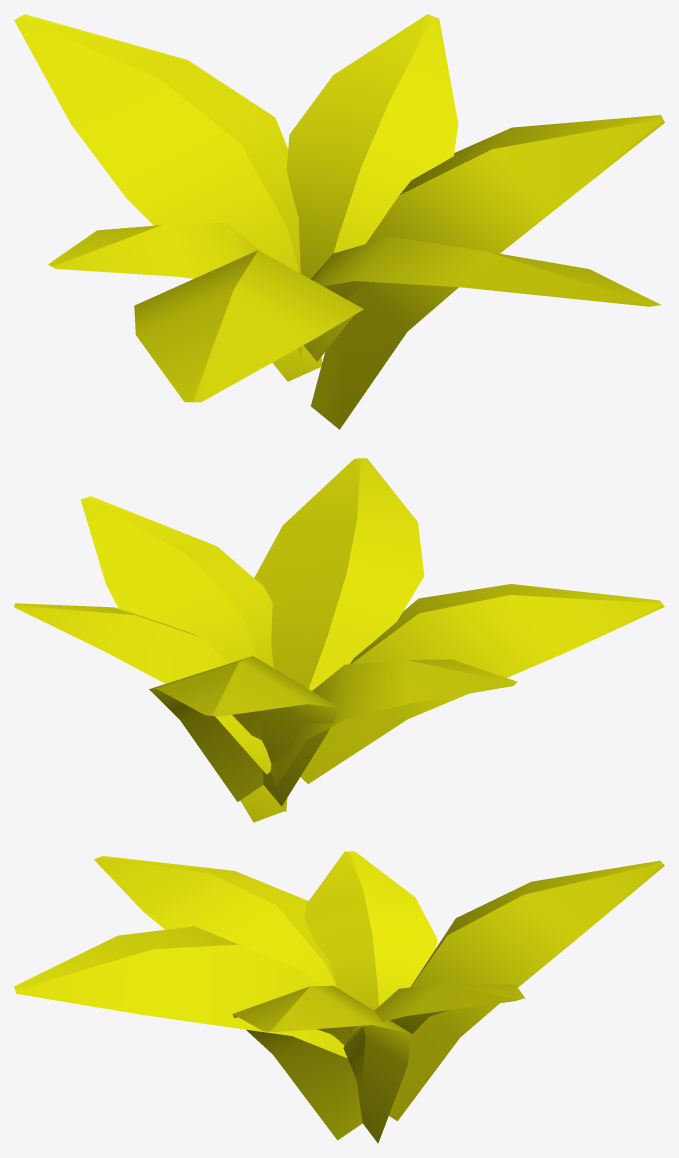
Rendered from Mini_Plants.fbx.
3 renders of one model, top to bottom at view 1: azimuth 30°, elevation 25°; view 2: azimuth 150°, elevation 25°; view 3: azimuth 270°, elevation 25°, orthographic. The views are drawn at different scales.
Parts seen in each view (by area): view 1: polySurface139; view 2: polySurface139; view 3: polySurface139.
Boxes of the visible parts, left/top/right/bottom form: polySurface139: left=14, top=14, right=664, bottom=429; polySurface139: left=14, top=458, right=664, bottom=822; polySurface139: left=14, top=851, right=664, bottom=1143.
Bounding box in the file's own units: 3.61 × 1.72 × 4.37.
